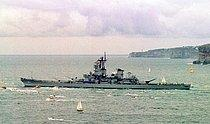MIL_Ship: (19, 56, 193, 90)
